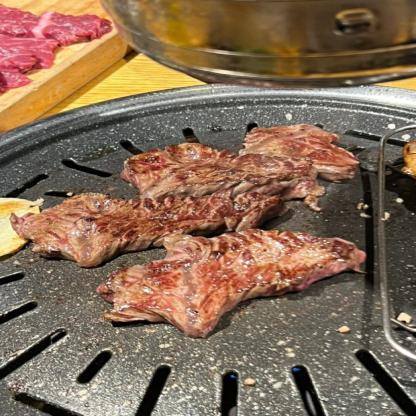Carne: (109, 226, 375, 330), (22, 190, 284, 260), (108, 144, 335, 203), (249, 121, 360, 180)
